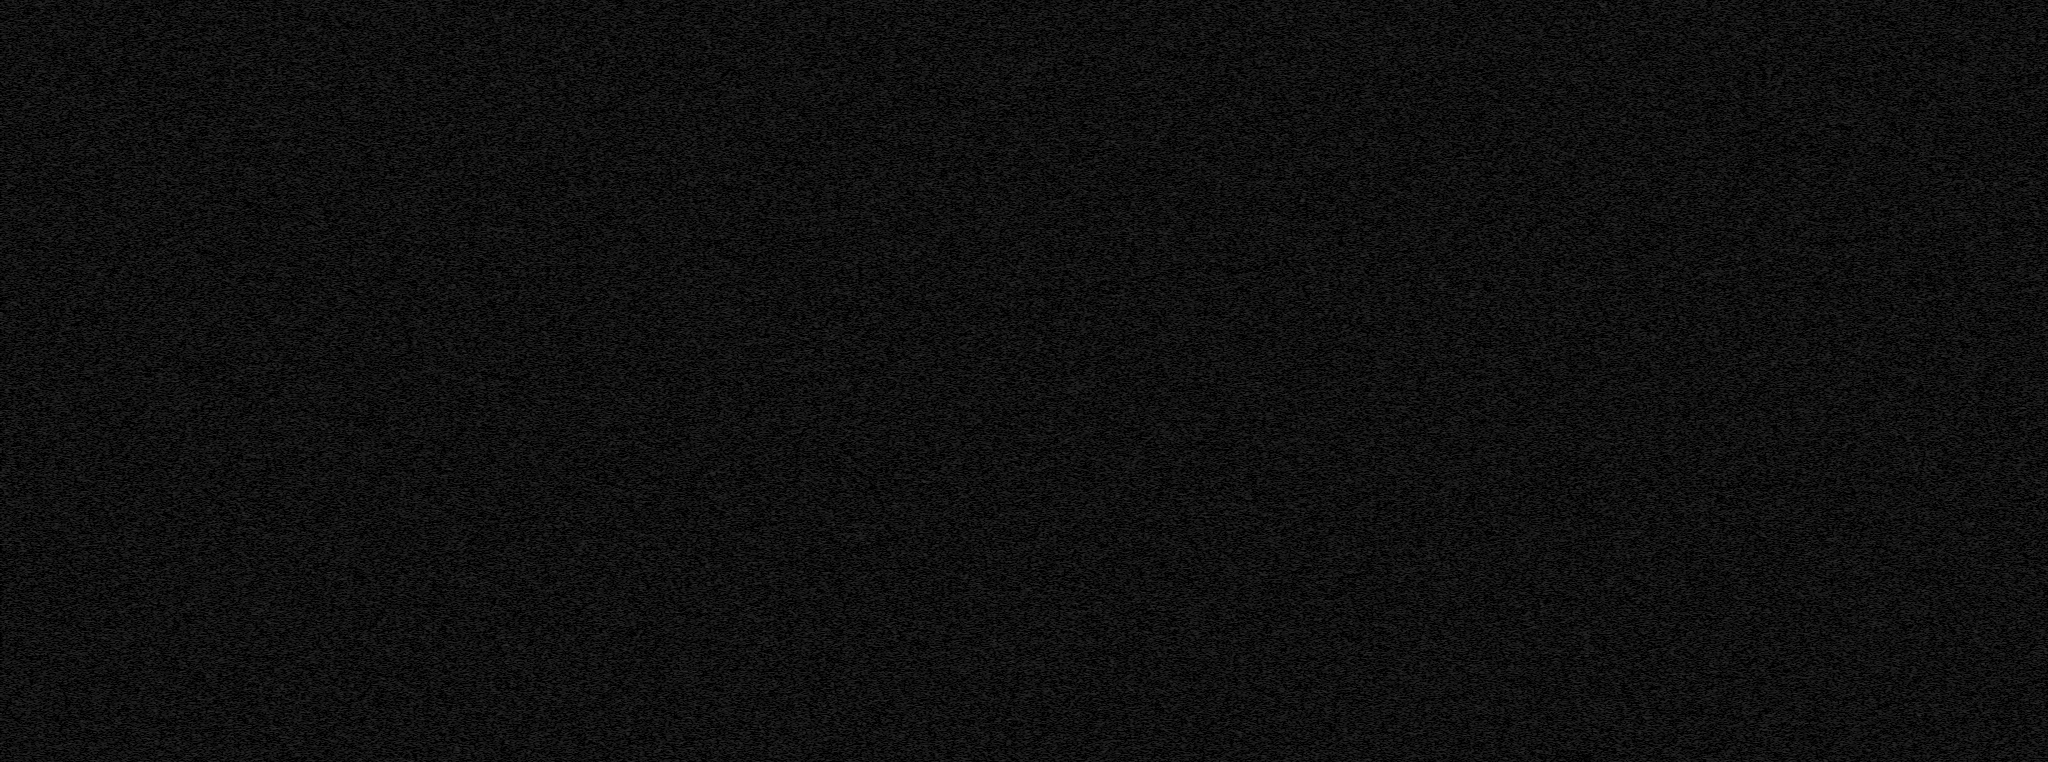wv_cw: (1553, 0, 1558, 762)
wv_lsb: (1597, 265, 1603, 582), (1597, 5, 1603, 51), (1597, 582, 1603, 605), (1597, 620, 1603, 639), (1599, 678, 1603, 701), (1599, 642, 1603, 664), (1597, 250, 1603, 263), (1597, 230, 1603, 243), (1597, 191, 1603, 204), (1599, 169, 1603, 186), (1597, 710, 1603, 721), (1597, 745, 1603, 755), (1597, 207, 1603, 217), (1597, 220, 1603, 227), (1599, 122, 1603, 131), (1599, 665, 1603, 673), (1599, 156, 1603, 163), (1599, 135, 1603, 142), (1599, 98, 1603, 106), (1599, 65, 1603, 73), (1599, 54, 1603, 61), (1597, 757, 1603, 762), (1599, 725, 1603, 732), (1599, 702, 1603, 708), (1599, 146, 1603, 153), (1599, 76, 1603, 82), (1599, 609, 1603, 614), (1599, 737, 1603, 741), (1599, 88, 1603, 91), (1597, 244, 1603, 247), (1599, 733, 1603, 736), (1599, 112, 1603, 115)
wv_usb: (1053, 639, 1059, 708), (1053, 264, 1059, 314), (1053, 67, 1059, 103), (1054, 180, 1058, 224), (1054, 225, 1058, 263), (1053, 461, 1058, 488), (1054, 20, 1058, 48), (1054, 133, 1058, 161), (1054, 105, 1058, 132), (1054, 315, 1058, 339), (1054, 708, 1058, 731), (1054, 731, 1058, 748), (1054, 48, 1058, 65), (1054, 506, 1058, 522), (1054, 489, 1058, 505), (1054, 522, 1058, 535), (1054, 339, 1058, 352), (1054, 439, 1058, 451), (1054, 384, 1058, 395), (1054, 162, 1058, 173), (1054, 452, 1058, 461), (1054, 580, 1058, 589), (1054, 549, 1058, 558), (1054, 361, 1058, 369), (1054, 427, 1058, 434), (1054, 420, 1058, 426), (1054, 409, 1058, 416), (1054, 754, 1058, 759), (1054, 535, 1058, 540), (1054, 375, 1057, 383), (1054, 396, 1057, 403), (1054, 175, 1058, 179), (1054, 16, 1058, 20), (1054, 10, 1058, 14), (1054, 7, 1058, 10), (1054, 616, 1058, 620), (1054, 545, 1058, 548), (1054, 601, 1057, 605), (1054, 565, 1057, 569), (1054, 622, 1057, 625)
wv_wbfm: (90, 0, 114, 762)
